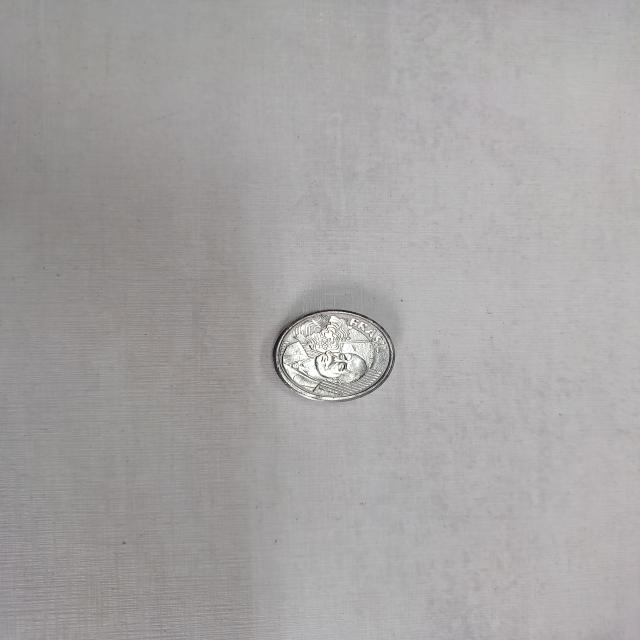50 cents: (274, 308, 400, 407)
